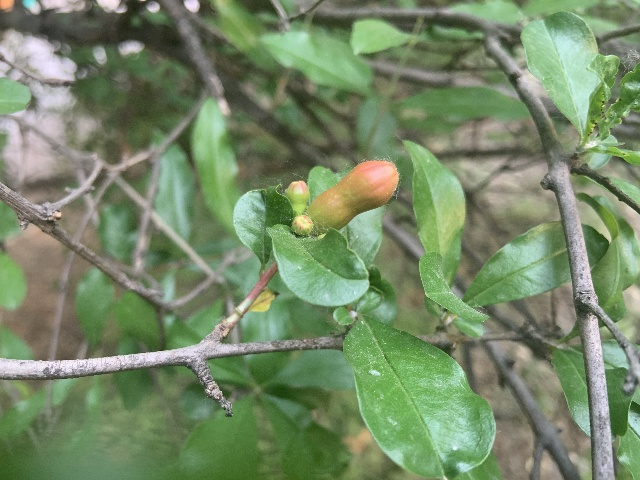bud: (309, 159, 398, 229), (286, 180, 309, 215), (292, 215, 313, 235)
